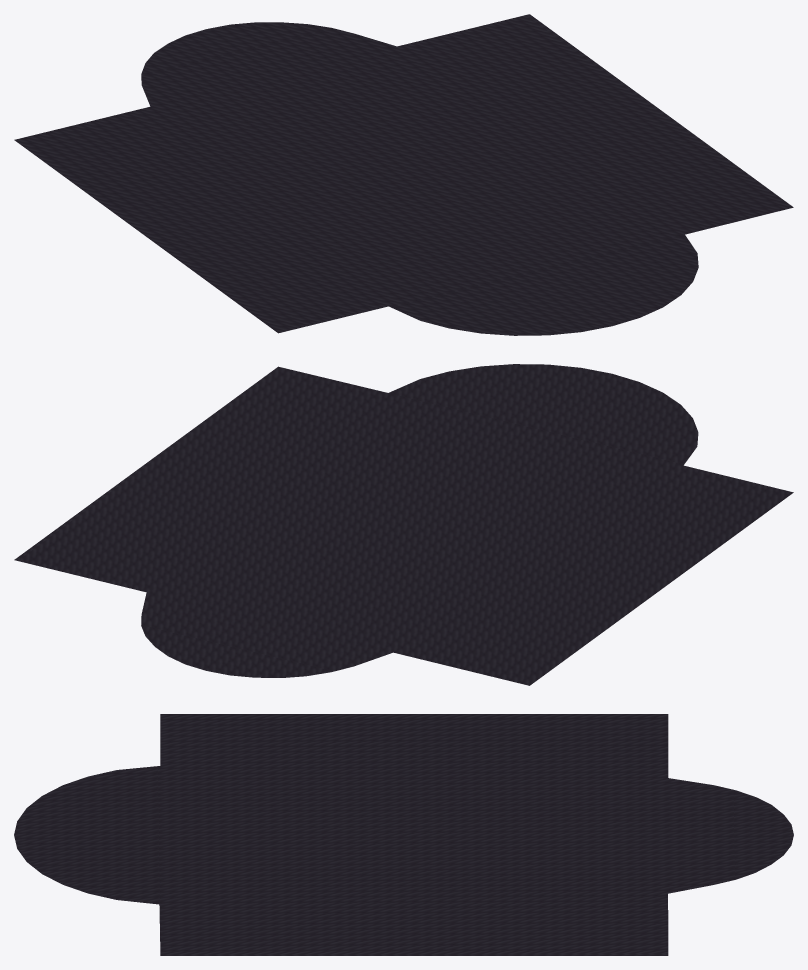
The model's file is mesh_dibiao.FBX.
The picture shows the model from 3 angles, top to bottom: view 1: azimuth 30°, elevation 25°; view 2: azimuth 150°, elevation 25°; view 3: azimuth 270°, elevation 25°; orthographic projection. The views are drawn at different scales.
Parts seen in each view (by area): view 1: dibiao; view 2: dibiao; view 3: dibiao.
Boxes of the visible parts, <box> form: dibiao: <box>14,14,793,335</box>; dibiao: <box>14,364,793,685</box>; dibiao: <box>14,714,793,955</box>.
Size of the model in its own units: 14.13 by 0.00063 by 19.26.
1 material, 1 textured.
